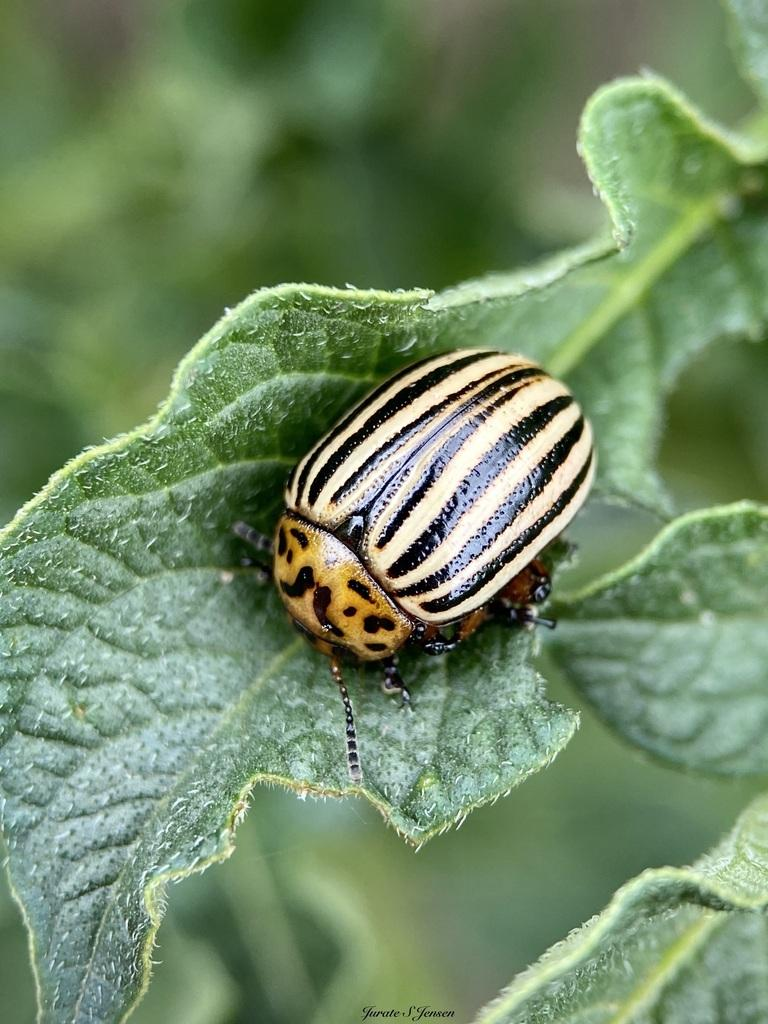potato_beetle: (161, 272, 634, 805)
